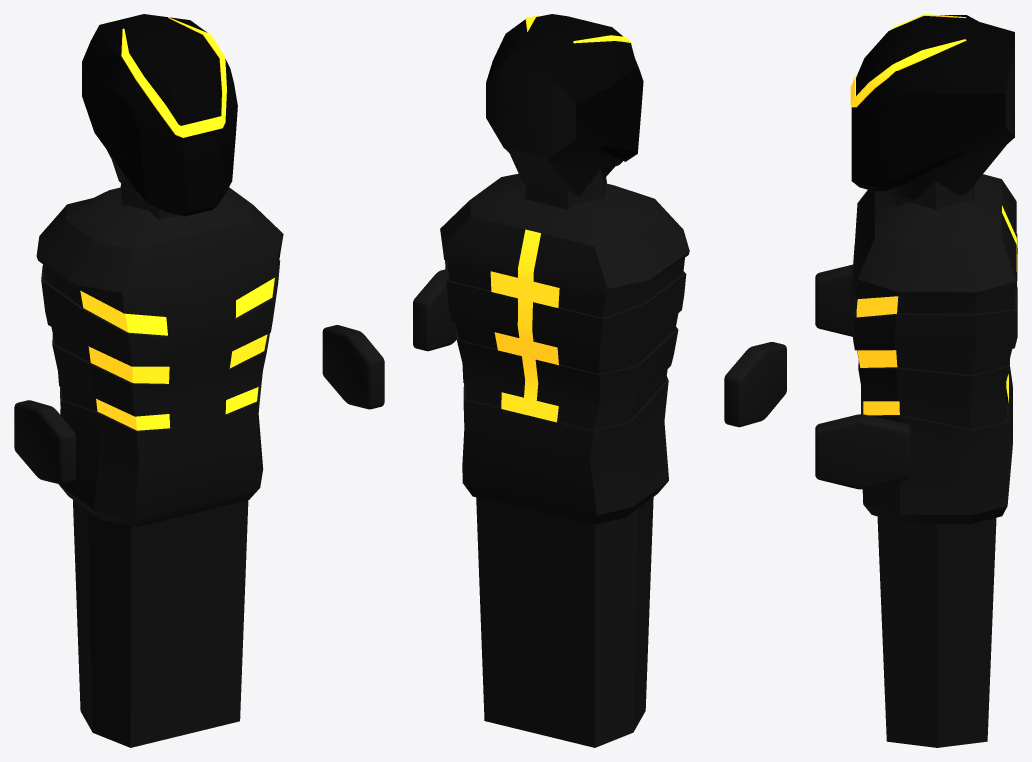
The model's file is HumanModel_g_shiny_hands.fbx.
The picture shows the model from 3 angles, left to right: view 1: azimuth 30°, elevation 25°; view 2: azimuth 150°, elevation 25°; view 3: azimuth 270°, elevation 25°; orthographic projection.
Parts seen in each view (by area): view 1: UpperBody.008, Legs.013, Head.002, HandLeft.008, HandRight.008; view 2: UpperBody.008, Legs.013, Head.002, HandRight.008, HandLeft.008; view 3: UpperBody.008, Head.002, Legs.013, HandLeft.008, HandRight.008.
Part boxes in pixels (x1,y1,x2,y2): UpperBody.008: (36,177,283,527); Legs.013: (73,500,248,747); Head.002: (82,14,237,216); HandLeft.008: (322,325,384,409); HandRight.008: (14,400,76,484); UpperBody.008: (440,170,689,525); Legs.013: (476,497,653,747); Head.002: (486,14,643,196); HandRight.008: (724,342,786,427); HandLeft.008: (413,269,456,351); UpperBody.008: (851,174,1017,524); Head.002: (850,14,1014,198); Legs.013: (877,516,996,747); HandLeft.008: (815,414,910,489); HandRight.008: (815,264,852,336).
Size of the model in its own units: 86.09 by 173 by 46.19.
